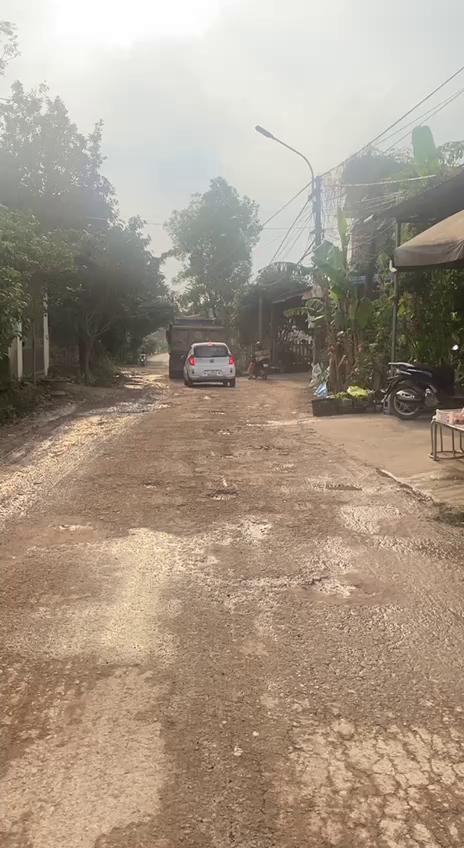pothole: (312, 568, 356, 597), (318, 478, 364, 494), (210, 490, 240, 502)
